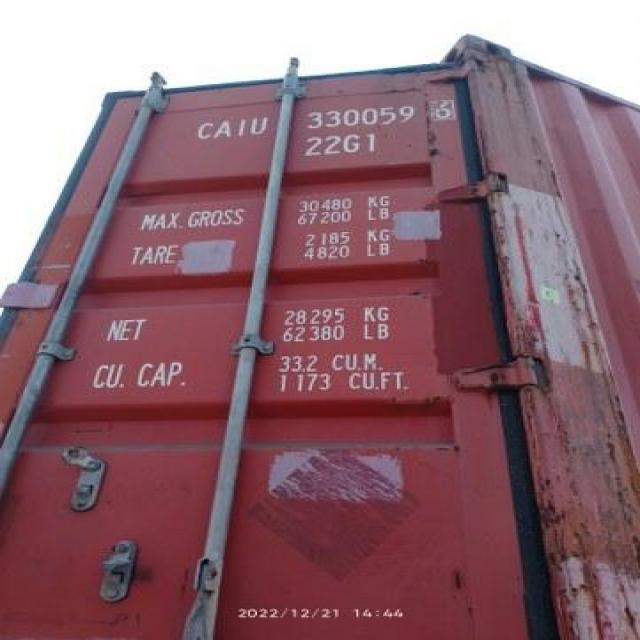ISO: (308, 134, 378, 156)
container_number: (184, 104, 450, 142)
